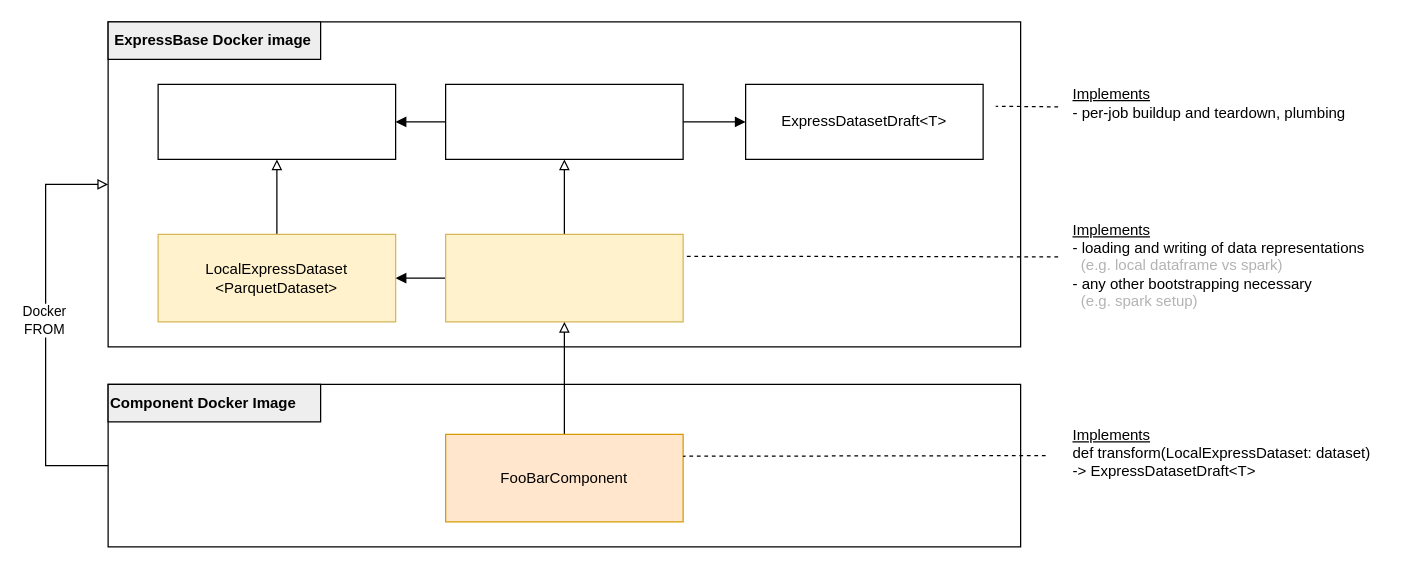
The diagram is 1416 pixels wide and 569 high, and some of its shapes have lost their labels. Here are the shapes that lost their labels. From the top down, the centre of each, then its label:
point 276,121: ExpressDataset<T>
point 563,121: ExpressTransform Component<T>
point 563,277: LocalExpressTransform Component<ParquetDataset>
